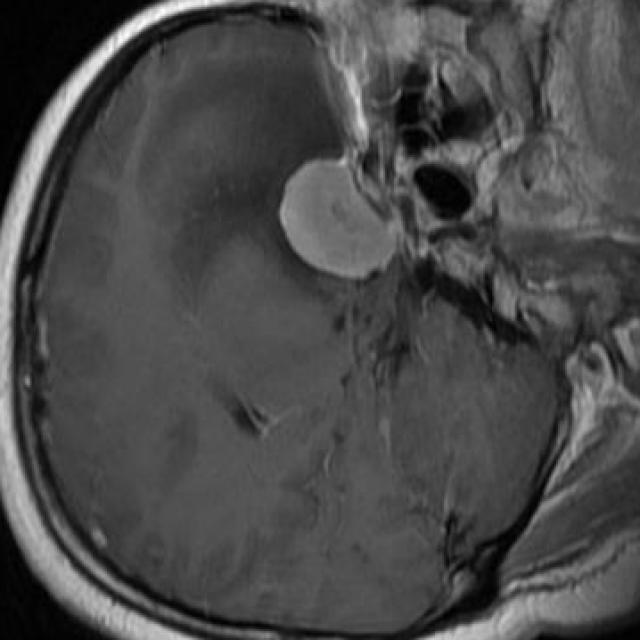meningioma: (278, 159, 396, 282)
